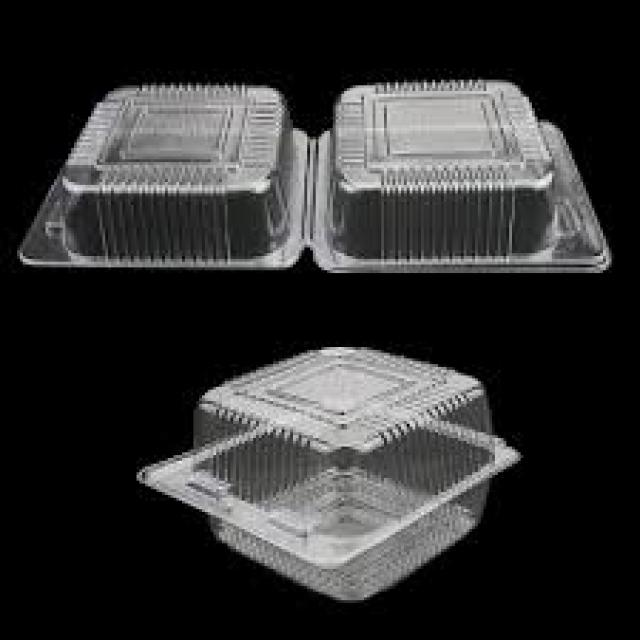disposable: (149, 332, 536, 608)
